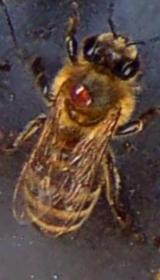varroa_mite: (68, 76, 96, 109)
